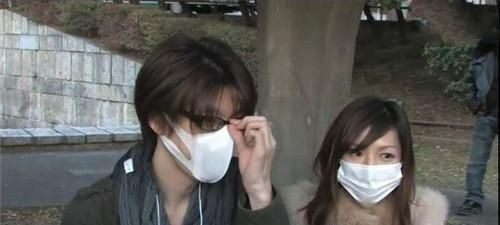face_mask: (176, 90, 247, 184), (338, 126, 401, 206)
